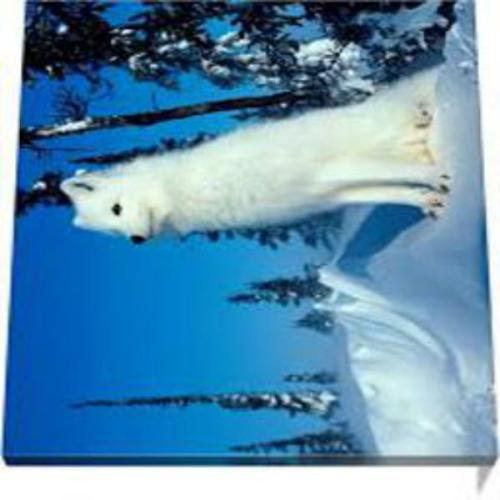arctic_fox-endangered: (60, 64, 449, 246)
